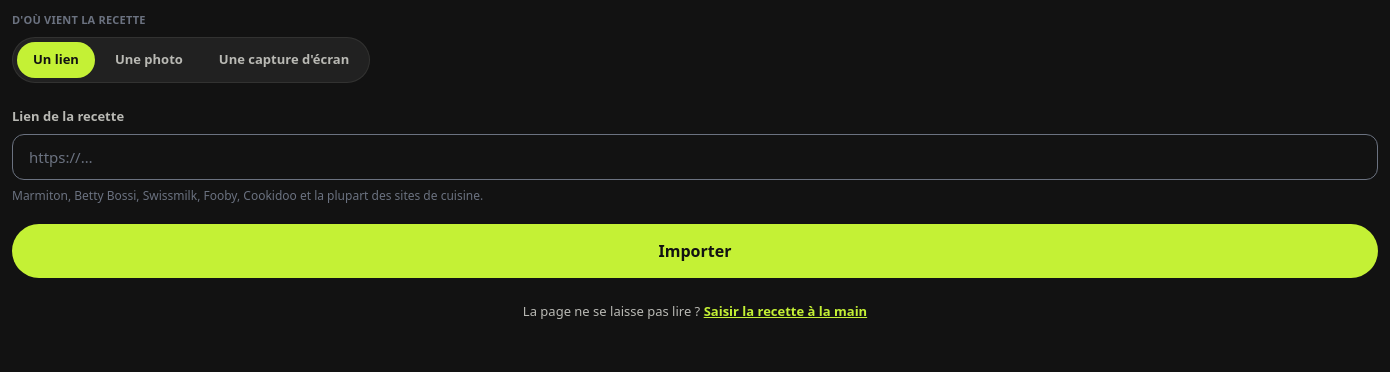
it: ImportForm › asks for images once the source is open, and says what fits
The image size is (1390, 372).
Click the button with test id "source-SCREENSHOT" at (284, 60), box [203, 42, 365, 78]
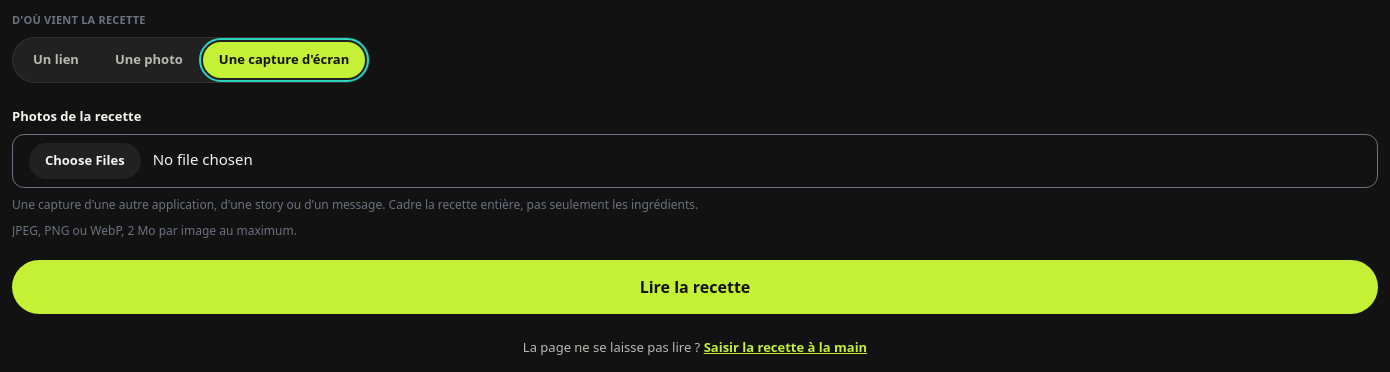
Result: the file field labelled "Photos de la recette" is shown at [12, 134, 1378, 188]
Result: the text "capture d'une autre application" is shown at [12, 196, 698, 212]
